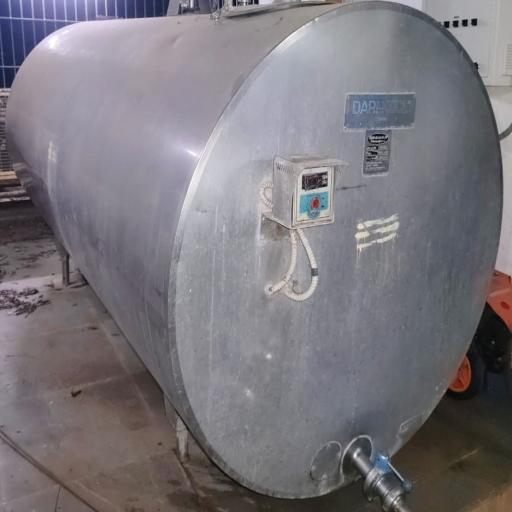silo: (6, 0, 506, 500)
